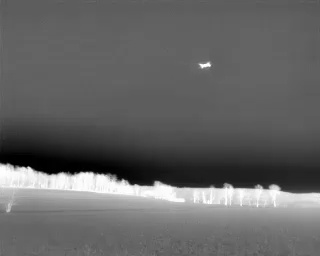DRONE: (195, 57, 216, 74)
